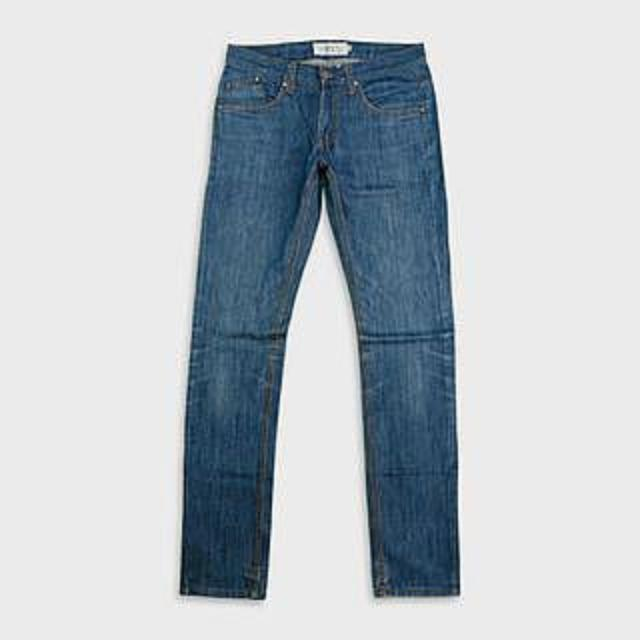TROUSER: (158, 26, 482, 610)
